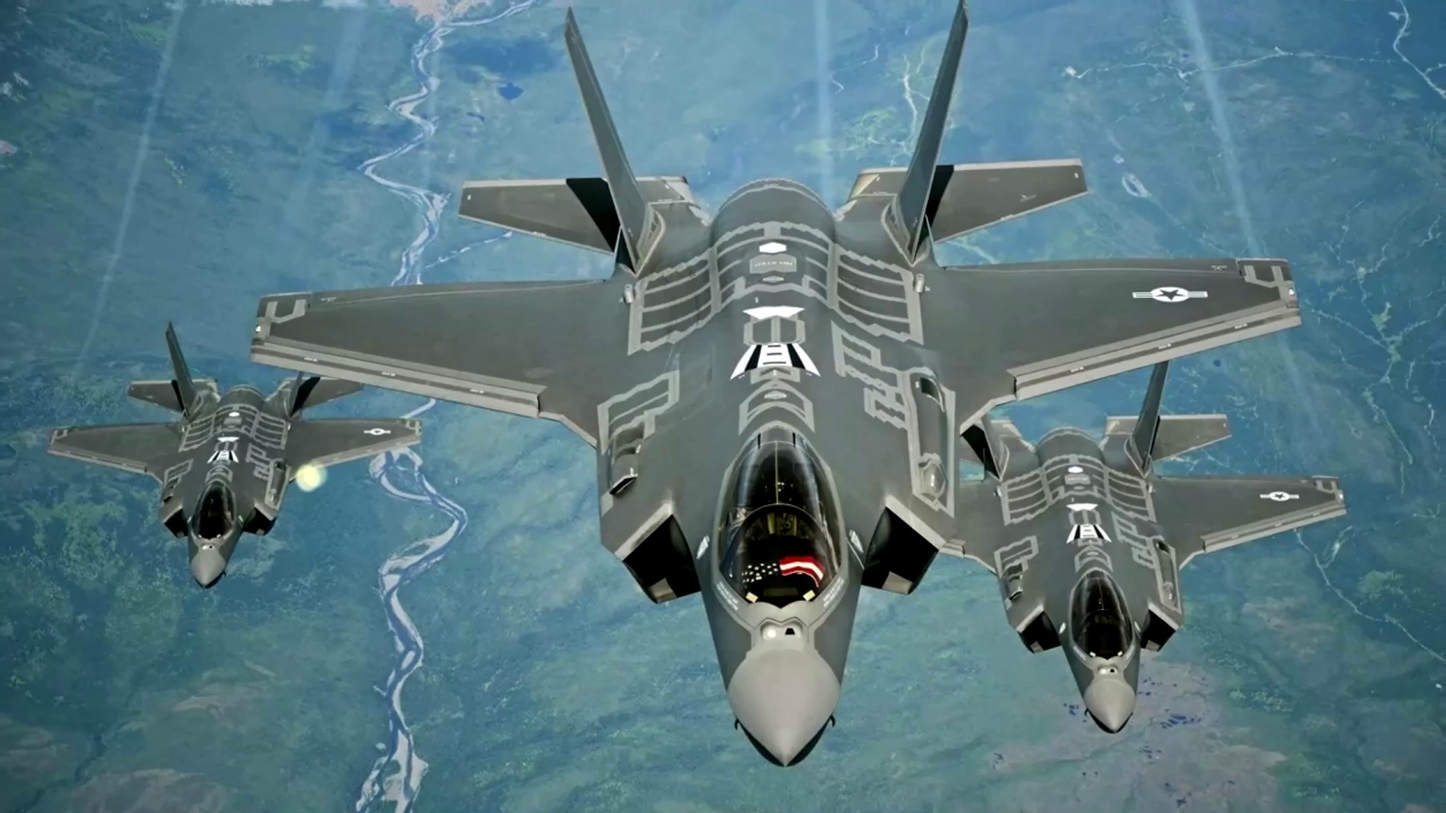F35: (252, 0, 1303, 770), (850, 360, 1346, 735), (46, 319, 423, 591)
